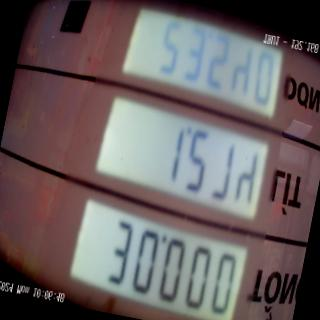screen: (51, 0, 300, 320)
